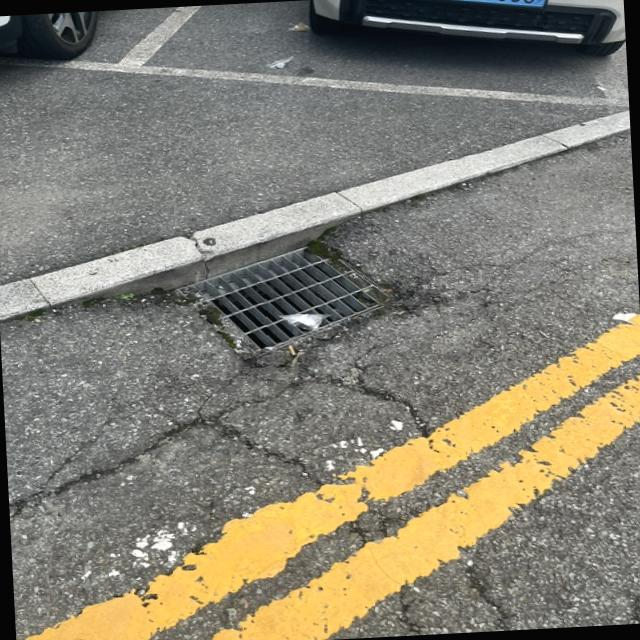drain_area: (196, 248, 368, 350)
drain_full: (179, 243, 396, 360)
